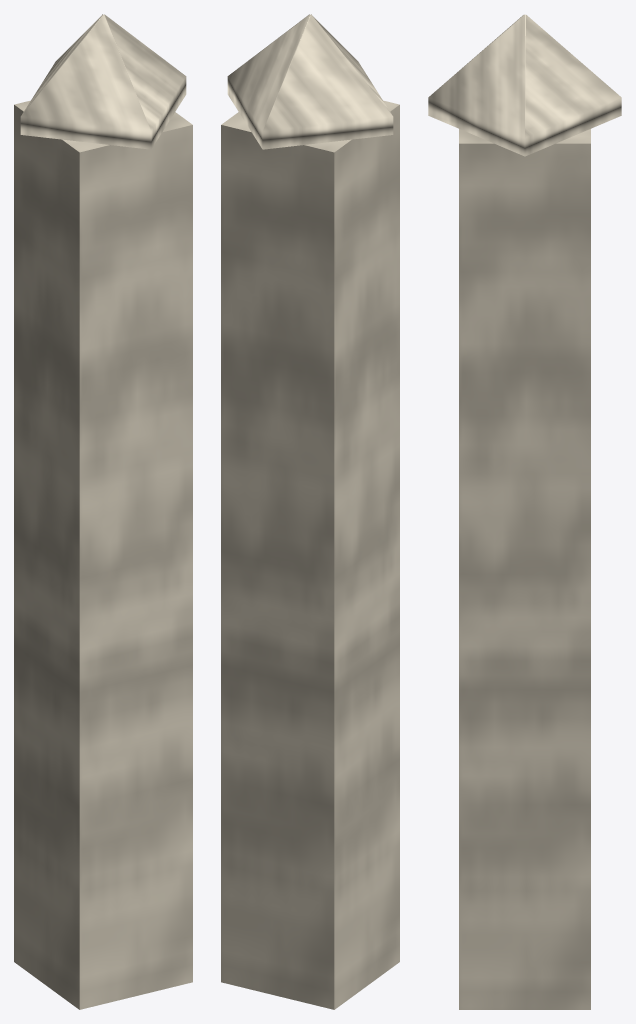
The model's file is fence-post.glb.
3 views of the same model, side by side, from view 1: azimuth 30°, elevation 25°; view 2: azimuth 150°, elevation 25°; view 3: azimuth 270°, elevation 25° (orthographic).
Visible parts, largest first — view 1: fence-post; view 2: fence-post; view 3: fence-post.
Part boxes in pixels (x1=…): fence-post: x1=14, y1=14, x2=192, y2=1009; fence-post: x1=221, y1=14, x2=399, y2=1009; fence-post: x1=428, y1=14, x2=621, y2=1009.
Size of the model in its own units: 0.19 by 1.05 by 0.19.
Materials: 1 (1 with a texture image).
